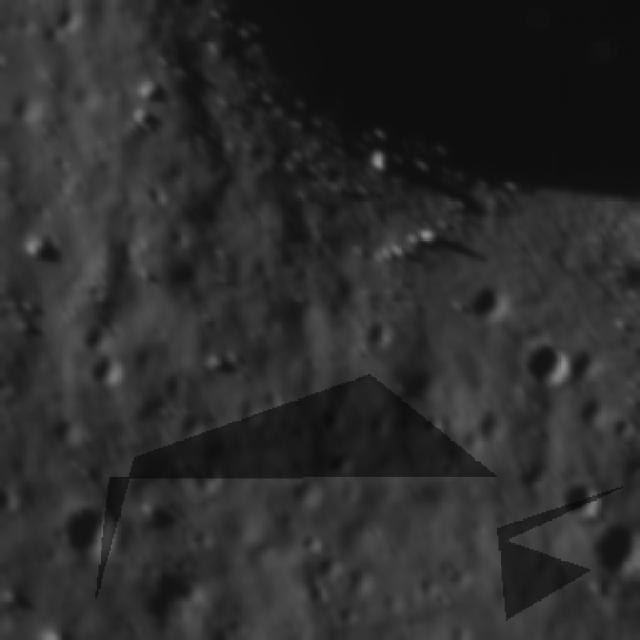crater: (141, 562, 213, 632), (52, 502, 117, 576), (513, 335, 573, 399), (584, 518, 638, 582), (451, 280, 509, 323), (556, 478, 604, 524), (355, 313, 394, 359), (564, 342, 602, 388), (82, 356, 122, 399), (571, 391, 607, 431), (284, 478, 322, 511), (322, 448, 355, 482), (79, 318, 110, 352), (294, 527, 328, 558), (607, 416, 636, 447), (299, 580, 332, 606), (419, 412, 447, 441)
